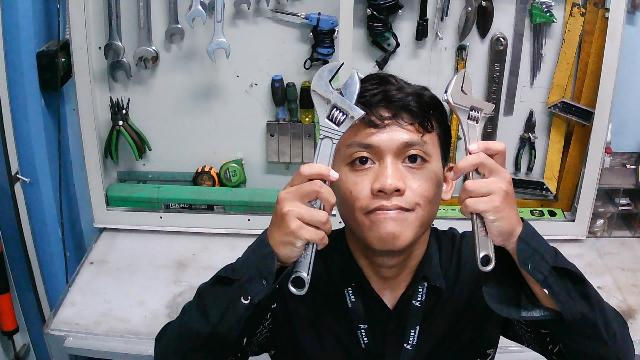kunci_inggris: (284, 59, 366, 297), (439, 66, 499, 275)
